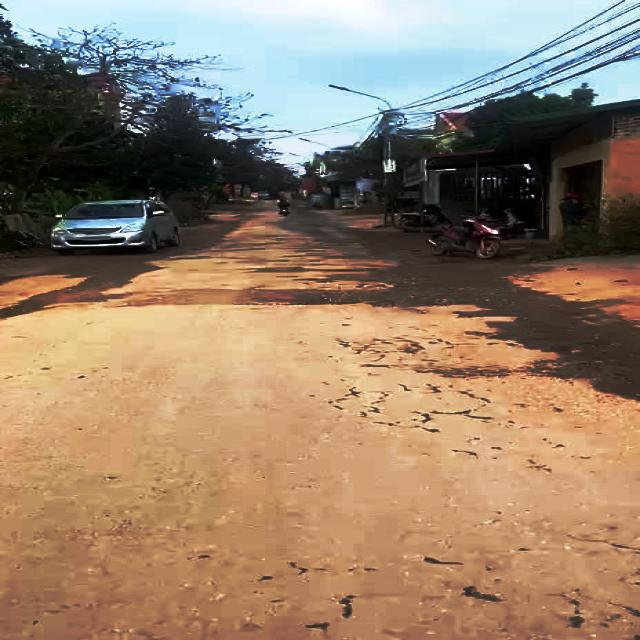pothole: (0, 264, 157, 321), (534, 353, 640, 403), (160, 288, 414, 306)
